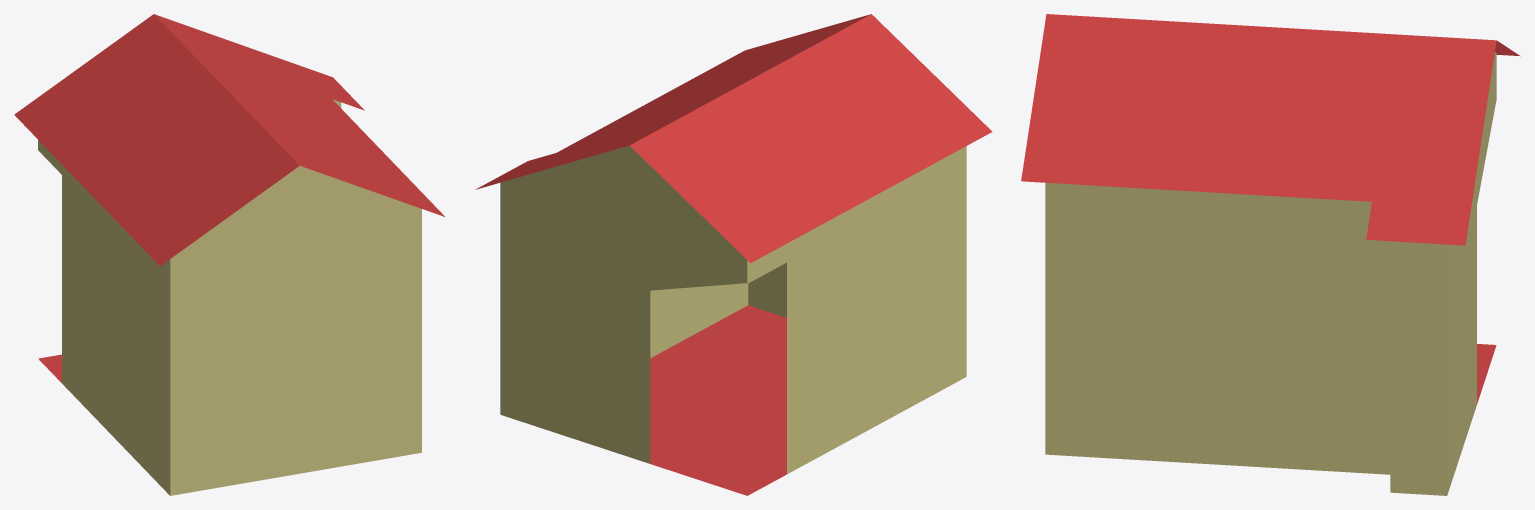
3 renders of one model, left to right at view 1: azimuth 30°, elevation 25°; view 2: azimuth 150°, elevation 25°; view 3: azimuth 270°, elevation 25°, orthographic. The views are drawn at different scales.
Visible parts, largest first — view 1: group_5, group_3, group_4; view 2: group_5, group_3, group_6, group_4; view 3: group_5, group_3, group_4, group_6.
Part boxes in pixels (left/top/right/bottom): group_5: left=38, top=99, right=421, bottom=495; group_3: left=14, top=14, right=444, bottom=265; group_4: left=147, top=14, right=364, bottom=167; group_5: left=500, top=145, right=966, bottom=474; group_3: left=476, top=14, right=992, bottom=263; group_6: left=650, top=305, right=786, bottom=495; group_4: left=476, top=14, right=869, bottom=189; group_5: left=1045, top=52, right=1496, bottom=495; group_3: left=1021, top=14, right=1496, bottom=245; group_4: left=1046, top=14, right=1520, bottom=244; group_6: left=1477, top=344, right=1496, bottom=403.
Bounding box in the file's own units: 16.11 × 17.42 × 14.27.
